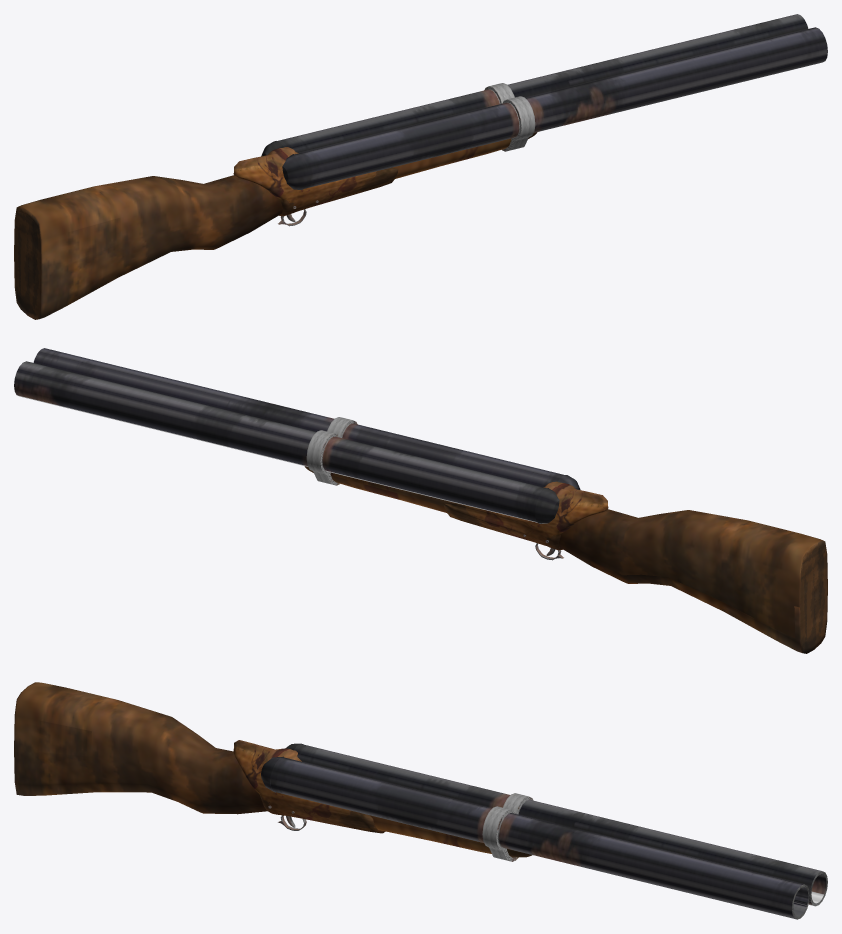
File: shotgunModel.fbx
3 views of the same model, one above another, from view 1: azimuth 30°, elevation 25°; view 2: azimuth 150°, elevation 25°; view 3: azimuth 330°, elevation 25° (orthographic).
Parts seen in each view (by area): view 1: shotgunModel; view 2: shotgunModel; view 3: shotgunModel.
Part boxes in pixels (left/top/right/bottom): shotgunModel: left=14, top=14, right=827, bottom=319; shotgunModel: left=14, top=348, right=827, bottom=653; shotgunModel: left=14, top=682, right=827, bottom=919.
Bounding box in the file's own units: 75 × 9.82 × 6.5.
Materials: 1 (1 with a texture image).
